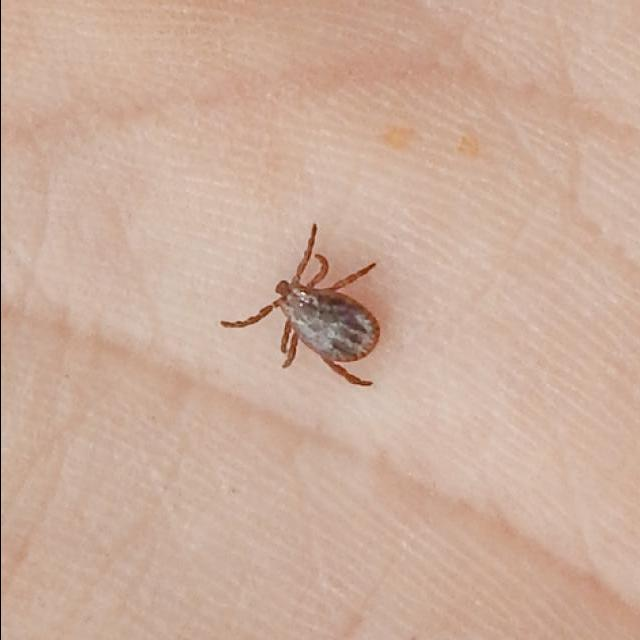Dermacentor Reticulatus-M: (220, 225, 380, 385)
